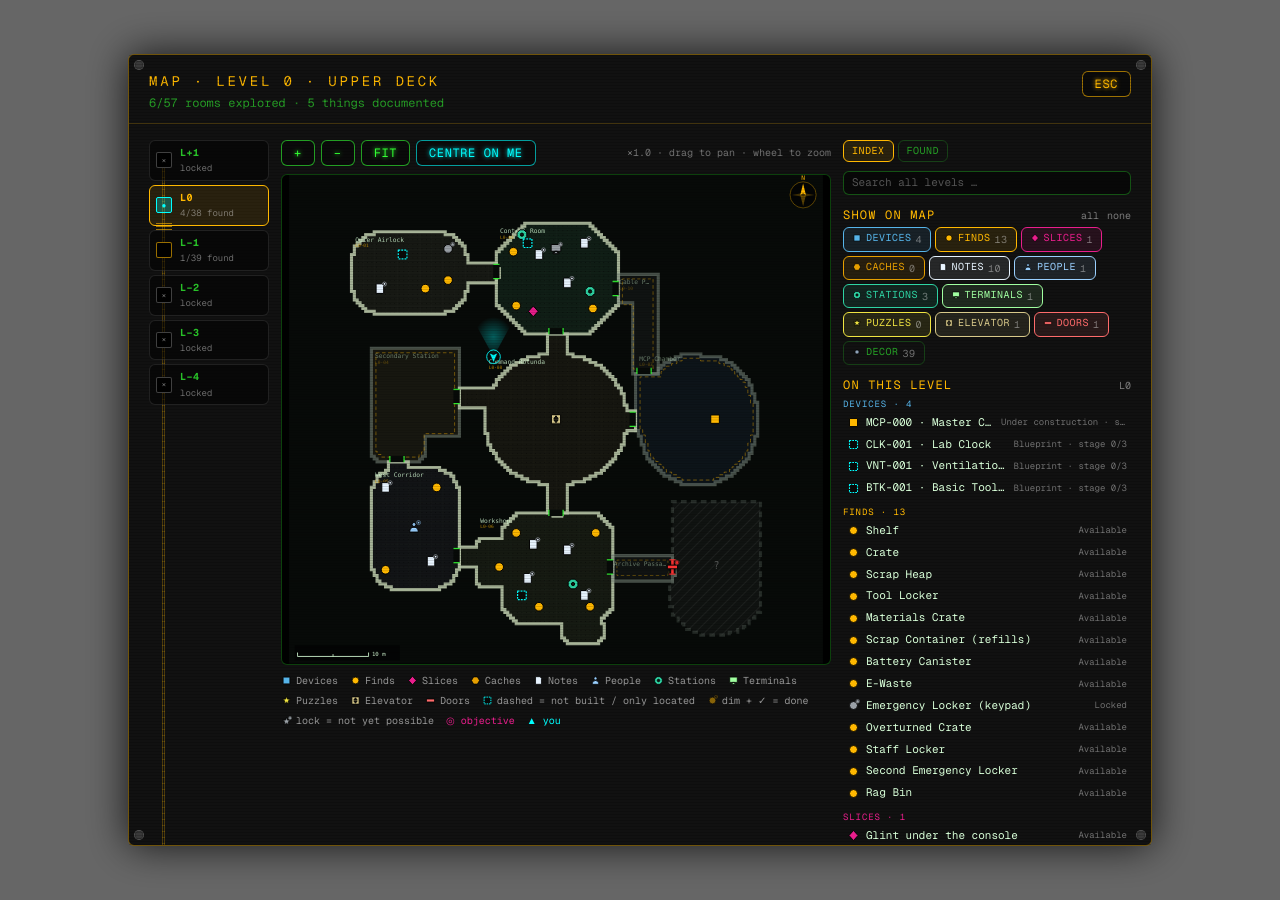
MapOverlay › search jumps to another floor
Type "seep valve" into the search field.
click(987, 183); type("seep valve")  # box x1=843 y1=171 x2=1131 y2=195
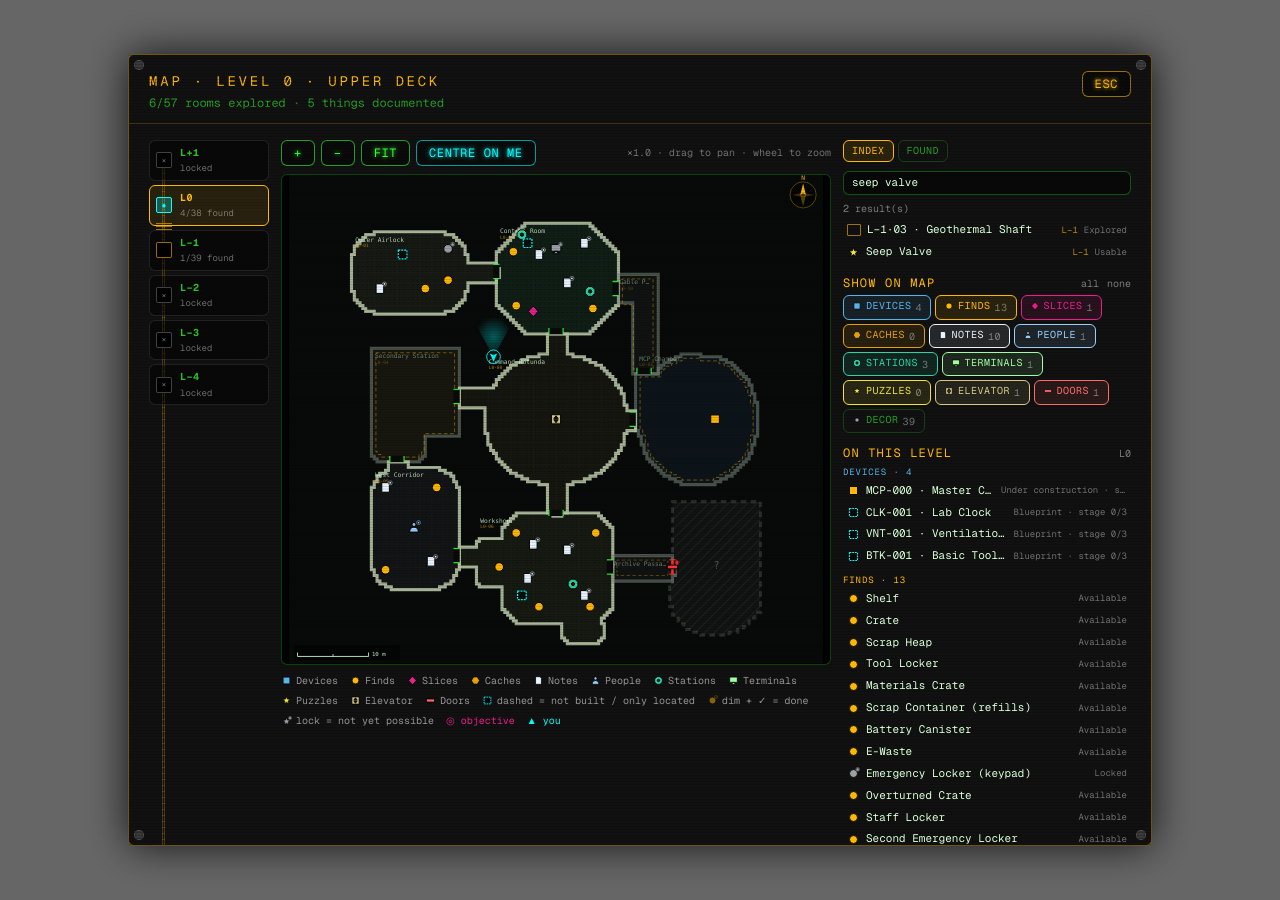
Click the button "Seep Valve L−1 Usable".
click(899, 251)  # box x1=843 y1=241 x2=1131 y2=263
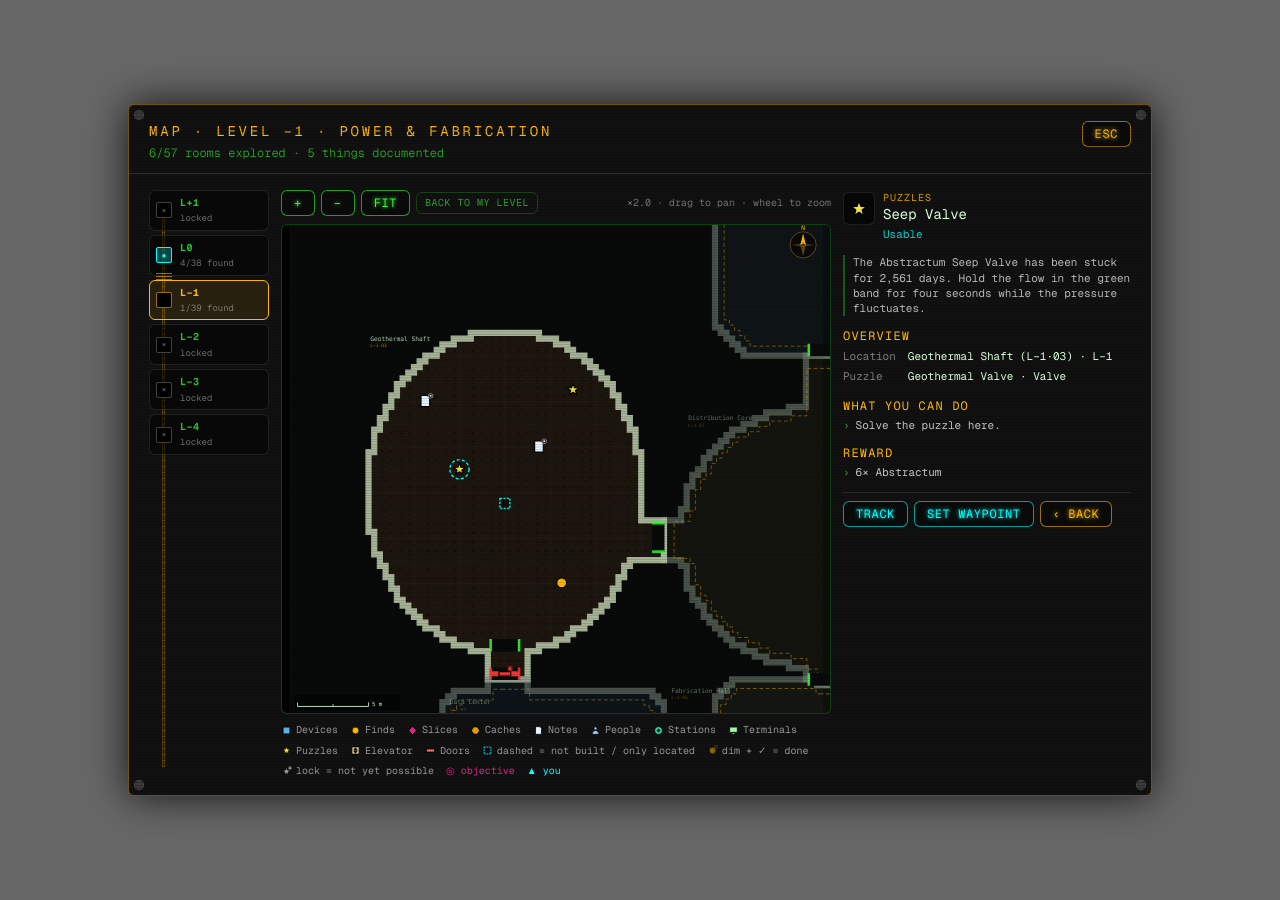
Now the dialog "Level −1" is shown
